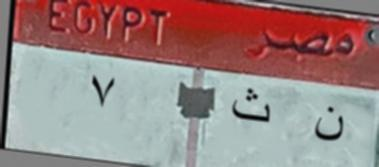7: (89, 68, 118, 110)
noon: (312, 102, 346, 150)
thaa: (228, 85, 274, 132)
